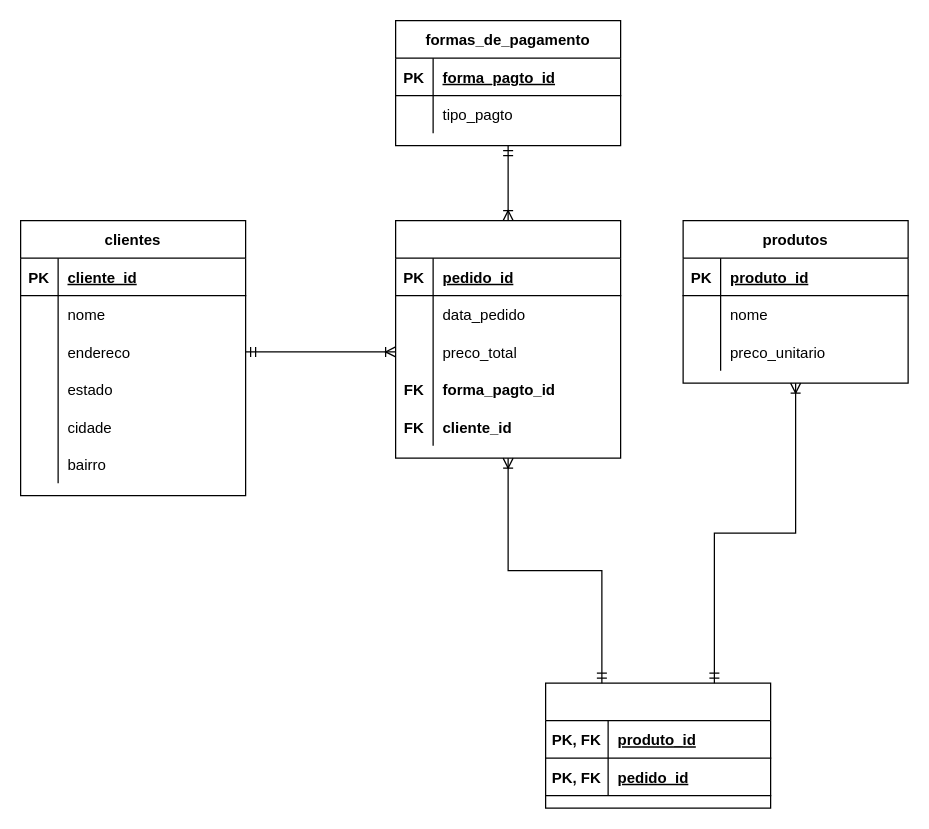
The diagram is 929 pixels wide and 829 high, and some of its shapes have lost their labels. Each missing label, with the box of its shape:
pedidos: (394, 219, 621, 458)
produtos_pedidos: (544, 682, 771, 808)
